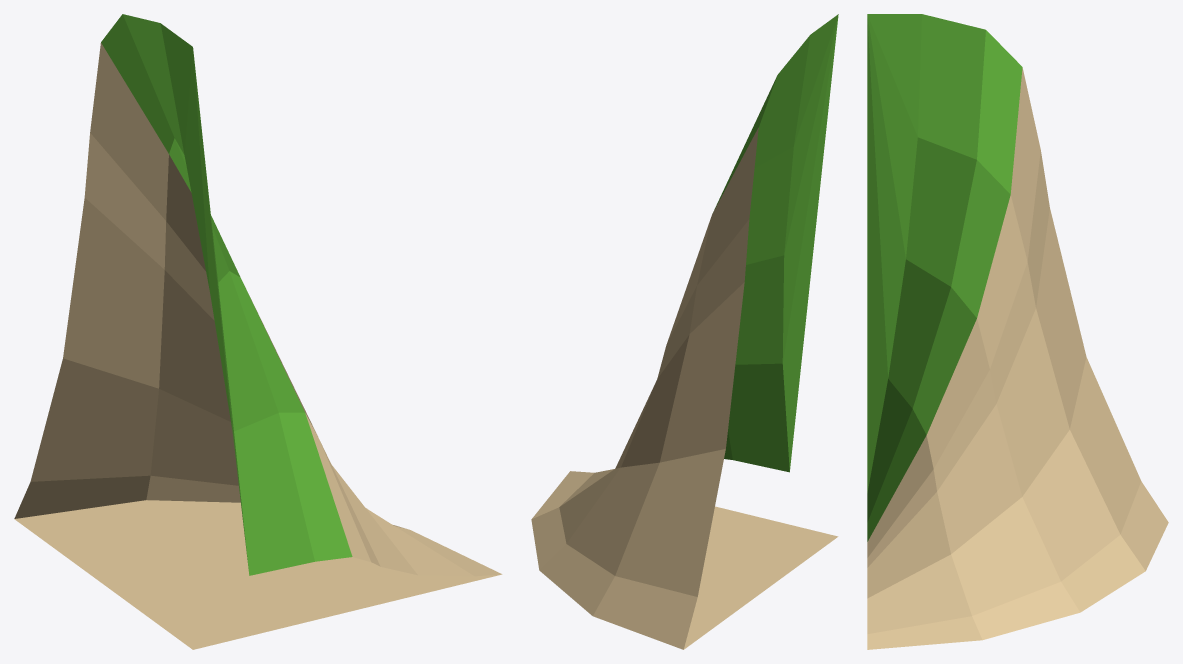
Rendered from margem-ponta-d.glb.
The picture shows the model from 3 angles, left to right: view 1: azimuth 30°, elevation 25°; view 2: azimuth 150°, elevation 25°; view 3: azimuth 270°, elevation 25°; orthographic projection. The views are drawn at different scales.
Parts seen in each view (by area): view 1: MargemPontaD; view 2: MargemPontaD; view 3: MargemPontaD.
Boxes of the visible parts, left/top/right/bottom form: MargemPontaD: left=14, top=14, right=502, bottom=649; MargemPontaD: left=531, top=14, right=838, bottom=649; MargemPontaD: left=867, top=14, right=1168, bottom=649.
Size of the model in its own units: 0.33 by 0.614 by 0.33.
